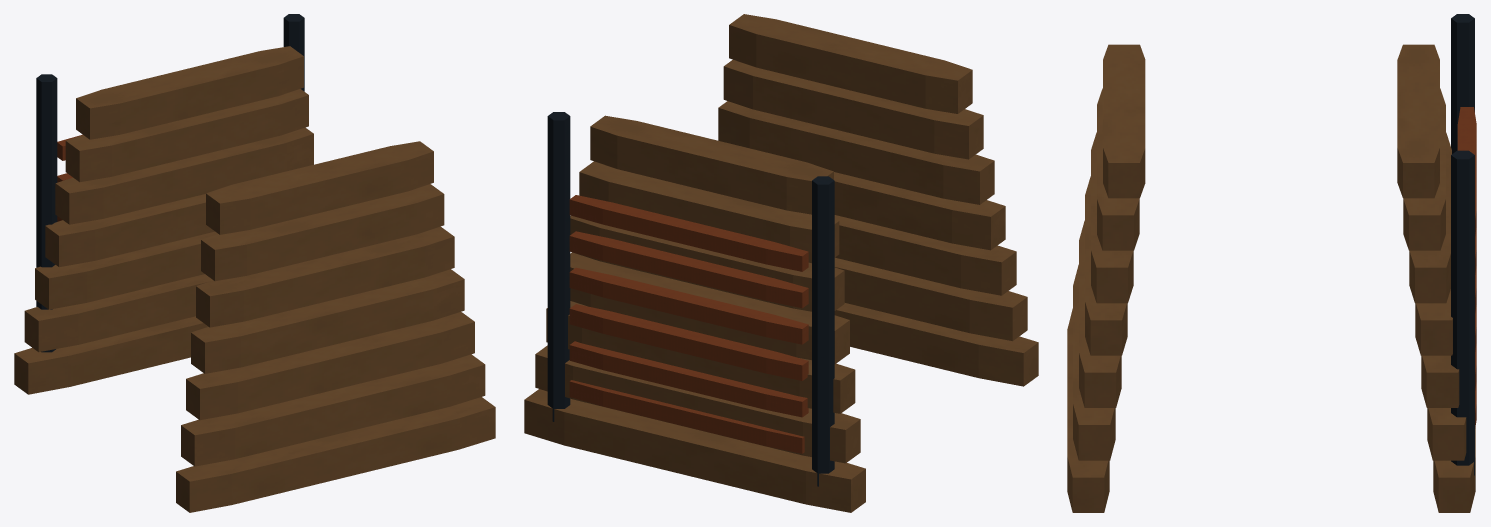
The model's file is siltwake-sluice-bank-1.glb.
3 views of the same model, side by side, from view 1: azimuth 30°, elevation 25°; view 2: azimuth 150°, elevation 25°; view 3: azimuth 270°, elevation 25° (orthographic). The views are drawn at different scales.
Parts seen in each view (by area): view 1: siltwake-sluice-bank_LOD1; view 2: siltwake-sluice-bank_LOD1; view 3: siltwake-sluice-bank_LOD1.
Boxes of the visible parts, box(x1,y1,x2,y2) form: siltwake-sluice-bank_LOD1: box(14, 14, 495, 512); siltwake-sluice-bank_LOD1: box(524, 14, 1038, 512); siltwake-sluice-bank_LOD1: box(1067, 14, 1476, 512).
Bounding box in the file's own units: 0.94 × 0.886 × 0.9625.
3 materials, 3 textured.
